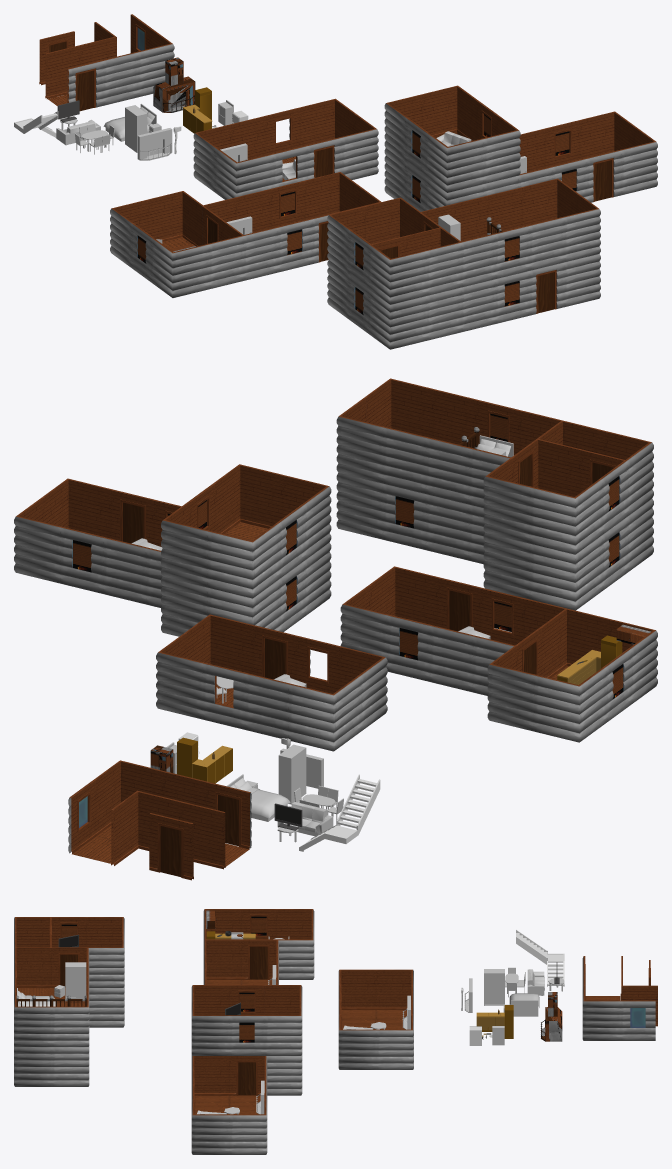
Rendered from HouseSetup01.FBX.
3 views of the same model, one above another, from view 1: azimuth 30°, elevation 25°; view 2: azimuth 150°, elevation 25°; view 3: azimuth 270°, elevation 25° (orthographic). The views are drawn at different scales.
Parts seen in each view (by area): view 1: OverEtage_Dobbelt, Setup_002, Box002, Setup_004, Setup_003, OverEtage_Enkelt, Object002, Wall_Straight, Wall_Corner, Wall_Door, Wall_Straight001, Wall_Corner001 (+8 smaller); view 2: OverEtage_Dobbelt, Setup_002, Setup_003, Box002, Setup_004, OverEtage_Enkelt, Wall_Corner001, Wall_Corner, Wall_Door001, Wall_Straight001, Wall_Door, Box023 (+8 smaller); view 3: OverEtage_Dobbelt, Setup_003, OverEtage_Enkelt, Setup_002, Box002, Setup_004, Wall_Corner, Wall_Window, Box023, Object002, IKEASkab, Wall_Corner001 (+4 smaller).
Boxes of the visible parts, x1,y1,x2,y2 form: OverEtage_Dobbelt: [327, 178, 600, 304]; Setup_002: [110, 172, 381, 297]; Box002: [193, 98, 378, 199]; Setup_004: [327, 254, 600, 349]; Setup_003: [384, 111, 657, 211]; OverEtage_Enkelt: [384, 85, 520, 192]; Object002: [153, 57, 195, 112]; Wall_Straight: [102, 52, 137, 105]; Wall_Corner: [136, 29, 174, 97]; Wall_Door: [67, 60, 103, 111]; Wall_Straight001: [45, 45, 80, 98]; Wall_Corner001: [80, 22, 116, 65]; OverEtage_Dobbelt: [336, 378, 653, 554]; Setup_002: [340, 566, 657, 742]; Setup_003: [14, 478, 331, 636]; Box002: [156, 614, 387, 751]; Setup_004: [336, 472, 653, 610]; OverEtage_Enkelt: [161, 464, 331, 598]; Wall_Corner001: [111, 790, 181, 865]; Wall_Corner: [94, 760, 164, 835]; Wall_Door001: [149, 813, 193, 880]; Wall_Straight001: [181, 801, 225, 869]; Wall_Door: [207, 782, 251, 849]; Box023: [299, 774, 380, 851]; OverEtage_Dobbelt: [14, 917, 124, 1046]; Setup_003: [191, 1054, 302, 1154]; OverEtage_Enkelt: [191, 985, 302, 1055]; Setup_002: [203, 909, 314, 984]; Box002: [338, 969, 413, 1069]; Setup_004: [14, 986, 124, 1086]; Wall_Corner: [582, 985, 620, 1040]; Wall_Window: [620, 1000, 655, 1040]; Box023: [516, 929, 564, 986]; Object002: [540, 992, 562, 1041]; IKEASkab: [484, 969, 504, 1005]; Wall_Corner001: [621, 970, 657, 1026].
Size of the model in its own units: 2791 by 515 by 3672.
